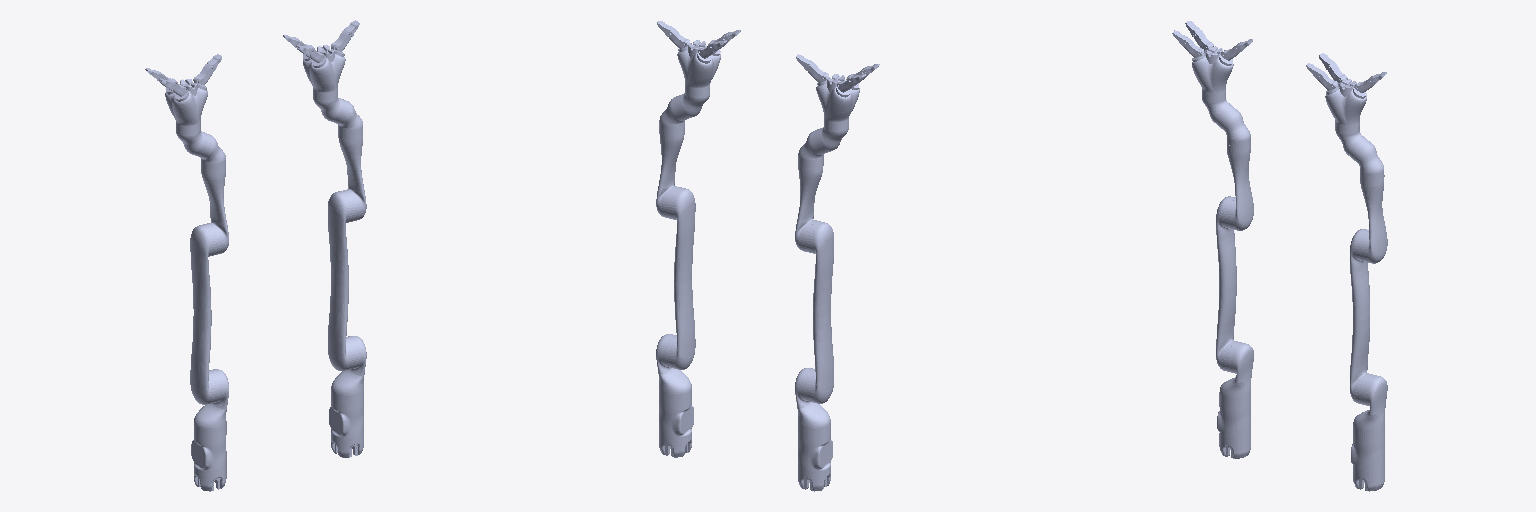
--- Facts derived from the render (not from the file) ---
Views: 3 orthographic renders of the robot side by side, from view 1: azimuth 30°, elevation 25°; view 2: azimuth 150°, elevation 25°; view 3: azimuth 330°, elevation 25°.
Robot: j2s6a300 — 31 links, 30 joints (10 revolute, 8 continuous, 12 fixed); root link root; default pose: joints at zero except 4 at the middle of their limits (left_joint_2 = 3.14, left_joint_3 = 3.14, right_joint_2 = 3.14, right_joint_3 = 3.14).
Visible links, largest first — view 1: left_link_2, right_link_2, right_link_base, left_link_base, right_link_6, left_link_6, right_link_1, left_link_3, left_link_1, right_link_3, left_link_5, right_link_5 (+2 smaller); view 2: right_link_2, left_link_2, right_link_base, left_link_base, right_link_6, left_link_6, left_link_3, right_link_3, right_link_1, left_link_1, left_link_5, right_link_5 (+2 smaller); view 3: left_link_2, right_link_2, right_link_base, left_link_base, left_link_3, right_link_3, right_link_1, left_link_1, right_link_6, left_link_6, right_link_4, left_link_4 (+2 smaller).
Link boxes in pixels (x1,y1,x2,y2): left_link_2: (190,224,217,404); right_link_2: (328,190,354,370); right_link_base: (329,397,363,457); left_link_base: (191,430,226,491); right_link_6: (303,45,345,95); left_link_6: (165,78,207,129); right_link_1: (331,336,366,402); left_link_3: (201,166,228,254); left_link_1: (194,369,228,436); right_link_3: (338,131,366,221); left_link_5: (176,125,208,155); right_link_5: (313,92,345,122); right_link_2: (668,187,695,369); left_link_2: (807,221,833,403); right_link_base: (659,397,693,457); left_link_base: (798,430,832,491); right_link_6: (677,39,720,91); left_link_6: (816,73,859,125); left_link_3: (795,161,823,252); right_link_3: (656,127,684,218); right_link_1: (656,334,691,401); left_link_1: (795,368,830,435); left_link_5: (815,122,848,152); right_link_5: (677,88,709,118); left_link_2: (1216,196,1237,371); right_link_2: (1350,229,1369,404); right_link_base: (1351,433,1384,491); left_link_base: (1217,399,1250,458); left_link_3: (1227,143,1253,230); right_link_3: (1360,175,1387,263); right_link_1: (1353,374,1387,437); left_link_1: (1219,342,1253,404); right_link_6: (1325,76,1366,128); left_link_6: (1192,43,1233,95); right_link_4: (1352,140,1383,179); left_link_4: (1218,107,1250,146).
Size in the robot's own frame: 0.6084 by 0.0927 by 1.18 metres.
26 mesh visuals loaded from 10 distinct referenced files (8 Collada DAE); not drawn: 12 (reference not matched to a file when rendering).

The robot description file, URDF, robot "j2s6a300":
<?xml version="1.0" ?>
<!-- =================================================================================== -->
<!-- |    This document was autogenerated by xacro from two_arm_robot_example_standalone.xacro | -->
<!-- |    EDITING THIS FILE BY HAND IS NOT RECOMMENDED                                 | -->
<!-- =================================================================================== -->
<!-- j2s6_3 refers to jaco v2 6DOF spherical 3fingers -->
<robot name="j2s6a300" xmlns:body="http://playerstage.sourceforge.net/gazebo/xmlschema/#body" xmlns:controller="http://playerstage.sourceforge.net/gazebo/xmlschema/#controller" xmlns:gazebo="http://playerstage.sourceforge.net/gazebo/xmlschema/#gz" xmlns:geom="http://playerstage.sourceforge.net/gazebo/xmlschema/#geom" xmlns:interface="http://playerstage.sourceforge.net/gazebo/xmlschema/#interface" xmlns:joint="http://playerstage.sourceforge.net/gazebo/xmlschema/#joint" xmlns:model="http://playerstage.sourceforge.net/gazebo/xmlschema/#model" xmlns:physics="http://playerstage.sourceforge.net/gazebo/xmlschema/#physics" xmlns:renderable="http://playerstage.sourceforge.net/gazebo/xmlschema/#renderable" xmlns:rendering="http://playerstage.sourceforge.net/gazebo/xmlschema/#rendering" xmlns:sensor="http://playerstage.sourceforge.net/gazebo/xmlschema/#sensor" xmlns:xacro="http://ros.org/wiki/xacro" xmlns:xi="http://www.w3.org/2001/XInclude">
  <!-- links      		mesh_no
   base           		0
   shoulder       		1
   arm            		2
   forearm        		3
   wrist          		4
   arm_mico       		5
   arm_half1 (7dof)		6
   arm_half2 (7dof)		7
   wrist_spherical_1  8
   wrist_spherical_2  9

   hand 3 finger  		55
   hand_2finger   		56
   finger_proximal		57
   finger_distal      58 
-->
  <!-- links      		mesh_no
   base           		0
   shoulder       		1
   arm            		2
   forearm        		3
   wrist          		4
   arm_mico       		5
   arm_half1 (7dof)		6
   arm_half2 (7dof)		7
   wrist_spherical_1  8
   wrist_spherical_2  9

   hand 3 finger  		55
   hand_2finger   		56
   finger_proximal		57
   finger_distal      58 
-->
  <link name="root">
    <visual>
      <origin rpy="0 0 0" xyz="0 0 0"/>
      <geometry>
        <box size="0 0 0"/>
      </geometry>
    </visual>
    <collision>
      <origin rpy="0 0 0" xyz="0 0 0"/>
      <geometry>
        <box size="0 0 0"/>
      </geometry>
    </collision>
  </link>
  <link name="left_arm_mount">
  </link>
  <link name="right_arm_mount">
  </link>
  <joint name="left_arm_attach" type="fixed">
    <child link="left_arm_mount"/>
    <parent link="root"/>
    <origin rpy="0 0 1.5707" xyz="-0.2 0 0"/>
  </joint>
  <joint name="right_arm_attach" type="fixed">
    <child link="right_arm_mount"/>
    <parent link="root"/>
    <origin rpy="0 0 1.5707" xyz="0.2 0 0"/>
  </joint>
  <!-- ros_control plugin -->
  <gazebo>
    <plugin filename="libgazebo_ros_control.so" name="gazebo_ros_control">
      <robotNamespace>left</robotNamespace>
      <robotSimType>gazebo_ros_control/DefaultRobotHWSim</robotSimType>
    </plugin>
  </gazebo>
  <link name="left_link_base">
    <visual>
      <geometry>
        <mesh filename="package://kinova_description/meshes/base.dae"/>
      </geometry>
      <material name="carbon_fiber">
        <color rgba="0.792156862745098 0.819607843137255 0.933333333333333 1"/>
      </material>
    </visual>
    <collision>
      <geometry>
        <mesh filename="package://kinova_description/meshes/base.dae"/>
      </geometry>
    </collision>
    <inertial>
      <mass value="0.46784"/>
      <origin rpy="0 0 0" xyz="0 0 0.1255"/>
      <inertia ixx="0.000951270861568" ixy="0" ixz="0" iyy="0.000951270861568" iyz="0" izz="0.000374272"/>
    </inertial>
  </link>
  <joint name="left_joint_base" type="fixed">
    <parent link="left_arm_mount"/>
    <child link="left_link_base"/>
    <axis xyz="0 0 0"/>
    <limit effort="2000" lower="0" upper="0" velocity="1"/>
    <origin rpy="0 0 0" xyz="0 0 0"/>
    <dynamics damping="0.0" friction="0.0"/>
  </joint>
  <link name="left_link_1">
    <visual>
      <geometry>
        <mesh filename="package://kinova_description/meshes/shoulder.dae"/>
      </geometry>
      <material name="carbon_fiber">
        <color rgba="0.792156862745098 0.819607843137255 0.933333333333333 1"/>
      </material>
    </visual>
    <visual>
      <geometry>
        <mesh filename="package://kinova_description/meshes/ring_big.STL"/>
      </geometry>
    </visual>
    <collision>
      <geometry>
        <mesh filename="package://kinova_description/meshes/shoulder.dae"/>
      </geometry>
    </collision>
    <inertial>
      <mass value="0.7477"/>
      <origin xyz="0 -0.002 -0.0605"/>
      <inertia ixx="0.00152031725204" ixy="0" ixz="0" iyy="0.00152031725204" iyz="0" izz="0.00059816"/>
    </inertial>
  </link>
  <joint name="left_joint_1" type="continuous">
    <parent link="left_link_base"/>
    <child link="left_link_1"/>
    <axis xyz="0 0 1"/>
    <limit effort="2000" lower="-6.28318530718" upper="6.28318530718" velocity="1"/>
    <origin rpy="0 3.14159265359 0" xyz="0 0 0.15675"/>
    <dynamics damping="0.0" friction="0.0"/>
  </joint>
  <transmission name="left_joint_1_trans">
    <type>transmission_interface/SimpleTransmission</type>
    <joint name="left_joint_1">
      <hardwareInterface>EffortJointInterface</hardwareInterface>
    </joint>
    <actuator name="left_joint_1_actuator">
      <hardwareInterface>EffortJointInterface</hardwareInterface>
      <mechanicalReduction>160</mechanicalReduction>
    </actuator>
  </transmission>
  <link name="left_link_2">
    <visual>
      <geometry>
        <mesh filename="package://kinova_description/meshes/arm.dae"/>
      </geometry>
      <material name="carbon_fiber">
        <color rgba="0.792156862745098 0.819607843137255 0.933333333333333 1"/>
      </material>
    </visual>
    <visual>
      <geometry>
        <mesh filename="package://kinova_description/meshes/ring_big.STL"/>
      </geometry>
    </visual>
    <collision>
      <geometry>
        <mesh filename="package://kinova_description/meshes/arm.dae"/>
      </geometry>
    </collision>
    <inertial>
      <mass value="0.99"/>
      <origin xyz="0 -0.2065 -0.01"/>
      <inertia ixx="0.010502207991" ixy="0" ixz="0" iyy="0.000792" iyz="0" izz="0.010502207991"/>
    </inertial>
  </link>
  <joint name="left_joint_2" type="revolute">
    <parent link="left_link_1"/>
    <child link="left_link_2"/>
    <axis xyz="0 0 1"/>
    <limit effort="2000" lower="0.820304748437" upper="5.46288055874" velocity="1"/>
    <origin rpy="-1.57079632679 0 3.14159265359" xyz="0 0.0016 -0.11875"/>
    <dynamics damping="0.0" friction="0.0"/>
  </joint>
  <transmission name="left_joint_2_trans">
    <type>transmission_interface/SimpleTransmission</type>
    <joint name="left_joint_2">
      <hardwareInterface>EffortJointInterface</hardwareInterface>
    </joint>
    <actuator name="left_joint_2_actuator">
      <hardwareInterface>EffortJointInterface</hardwareInterface>
      <mechanicalReduction>160</mechanicalReduction>
    </actuator>
  </transmission>
  <link name="left_link_3">
    <visual>
      <geometry>
        <mesh filename="package://kinova_description/meshes/forearm.dae"/>
      </geometry>
      <material name="carbon_fiber">
        <color rgba="0.792156862745098 0.819607843137255 0.933333333333333 1"/>
      </material>
    </visual>
    <visual>
      <geometry>
        <mesh filename="package://kinova_description/meshes/ring_big.STL"/>
      </geometry>
    </visual>
    <collision>
      <geometry>
        <mesh filename="package://kinova_description/meshes/forearm.dae"/>
      </geometry>
    </collision>
    <inertial>
      <mass value="0.6763"/>
      <origin xyz="0 0.081 -0.0086"/>
      <inertia ixx="0.00142022431908" ixy="0" ixz="0" iyy="0.000304335" iyz="0" izz="0.00142022431908"/>
    </inertial>
  </link>
  <joint name="left_joint_3" type="revolute">
    <parent link="left_link_2"/>
    <child link="left_link_3"/>
    <axis xyz="0 0 1"/>
    <limit effort="2000" lower="0.331612557879" upper="5.9515727493" velocity="1"/>
    <origin rpy="0 3.14159265359 0" xyz="0 -0.410 0"/>
    <dynamics damping="0.0" friction="0.0"/>
  </joint>
  <transmission name="left_joint_3_trans">
    <type>transmission_interface/SimpleTransmission</type>
    <joint name="left_joint_3">
      <hardwareInterface>EffortJointInterface</hardwareInterface>
    </joint>
    <actuator name="left_joint_3_actuator">
      <hardwareInterface>EffortJointInterface</hardwareInterface>
      <mechanicalReduction>160</mechanicalReduction>
    </actuator>
  </transmission>
  <link name="left_link_4">
    <visual>
      <geometry>
        <mesh filename="package://kinova_description/meshes/wrist.dae"/>
      </geometry>
      <material name="carbon_fiber">
        <color rgba="0.792156862745098 0.819607843137255 0.933333333333333 1"/>
      </material>
    </visual>
    <visual>
      <geometry>
        <mesh filename="package://kinova_description/meshes/ring_small.STL"/>
      </geometry>
    </visual>
    <collision>
      <geometry>
        <mesh filename="package://kinova_description/meshes/wrist.dae"/>
      </geometry>
    </collision>
    <inertial>
      <mass value="0.426367"/>
      <origin xyz="0 -0.037 -0.0642"/>
      <inertia ixx="7.73496906e-05" ixy="0" ixz="0" iyy="7.73496906e-05" iyz="0" izz="0.0001428"/>
    </inertial>
  </link>
  <joint name="left_joint_4" type="continuous">
    <parent link="left_link_3"/>
    <child link="left_link_4"/>
    <axis xyz="0 0 1"/>
    <limit effort="2000" lower="-6.28318530718" upper="6.28318530718" velocity="1"/>
    <origin rpy="-1.57079632679 0 3.14159265359" xyz="0 0.2073 -0.0114"/>
    <dynamics damping="0.0" friction="0.0"/>
  </joint>
  <transmission name="left_joint_4_trans">
    <type>transmission_interface/SimpleTransmission</type>
    <joint name="left_joint_4">
      <hardwareInterface>EffortJointInterface</hardwareInterface>
    </joint>
    <actuator name="left_joint_4_actuator">
      <hardwareInterface>EffortJointInterface</hardwareInterface>
      <mechanicalReduction>160</mechanicalReduction>
    </actuator>
  </transmission>
  <link name="left_link_5">
    <visual>
      <geometry>
        <mesh filename="package://kinova_description/meshes/wrist.dae"/>
      </geometry>
      <material name="carbon_fiber">
        <color rgba="0.792156862745098 0.819607843137255 0.933333333333333 1"/>
      </material>
    </visual>
    <visual>
      <geometry>
        <mesh filename="package://kinova_description/meshes/ring_small.STL"/>
      </geometry>
    </visual>
    <collision>
      <geometry>
        <mesh filename="package://kinova_description/meshes/wrist.dae"/>
      </geometry>
    </collision>
    <inertial>
      <mass value="0.426367"/>
      <origin xyz="0 -0.037 -0.0642"/>
      <inertia ixx="7.73496906e-05" ixy="0" ixz="0" iyy="7.73496906e-05" iyz="0" izz="0.0001428"/>
    </inertial>
  </link>
  <joint name="left_joint_5" type="continuous">
    <parent link="left_link_4"/>
    <child link="left_link_5"/>
    <axis xyz="0 0 1"/>
    <limit effort="2000" lower="-6.28318530718" upper="6.28318530718" velocity="1"/>
    <origin rpy="1.0471975512 0 3.14159265359" xyz="0 -0.03703 -0.06414"/>
    <dynamics damping="0.0" friction="0.0"/>
  </joint>
  <transmission name="left_joint_5_trans">
    <type>transmission_interface/SimpleTransmission</type>
    <joint name="left_joint_5">
      <hardwareInterface>EffortJointInterface</hardwareInterface>
    </joint>
    <actuator name="left_joint_5_actuator">
      <hardwareInterface>EffortJointInterface</hardwareInterface>
      <mechanicalReduction>160</mechanicalReduction>
    </actuator>
  </transmission>
  <link name="left_link_6">
    <visual>
      <geometry>
        <mesh filename="package://kinova_description/meshes/hand_3finger.dae"/>
      </geometry>
      <material name="carbon_fiber">
        <color rgba="0.792156862745098 0.819607843137255 0.933333333333333 1"/>
      </material>
    </visual>
    <visual>
      <geometry>
        <mesh filename="package://kinova_description/meshes/ring_small.STL"/>
      </geometry>
    </visual>
    <collision>
      <geometry>
        <mesh filename="package://kinova_description/meshes/hand_3finger.dae"/>
      </geometry>
    </collision>
    <inertial>
      <mass value="0.99"/>
      <origin xyz="0 0 -0.06"/>
      <inertia ixx="0.0003453236187" ixy="0" ixz="0" iyy="0.0003453236187" iyz="0" izz="0.0005816"/>
    </inertial>
  </link>
  <joint name="left_joint_6" type="continuous">
    <parent link="left_link_5"/>
    <child link="left_link_6"/>
    <axis xyz="0 0 1"/>
    <limit effort="2000" lower="-6.28318530718" upper="6.28318530718" velocity="1"/>
    <origin rpy="1.0471975512 0 3.14159265359" xyz="0 -0.03703 -0.06414"/>
    <dynamics damping="0.0" friction="0.0"/>
  </joint>
  <transmission name="left_joint_6_trans">
    <type>transmission_interface/SimpleTransmission</type>
    <joint name="left_joint_6">
      <hardwareInterface>EffortJointInterface</hardwareInterface>
    </joint>
    <actuator name="left_joint_6_actuator">
      <hardwareInterface>EffortJointInterface</hardwareInterface>
      <mechanicalReduction>160</mechanicalReduction>
    </actuator>
  </transmission>
  <link name="left_end_effector">
    <visual>
      <geometry>
        <box size="0 0 0"/>
      </geometry>
    </visual>
    <collision>
      <geometry>
        <box size="0 0 0"/>
      </geometry>
    </collision>
  </link>
  <joint name="left_joint_end_effector" type="fixed">
    <parent link="left_link_6"/>
    <child link="left_end_effector"/>
    <axis xyz="0 0 0"/>
    <limit effort="2000" lower="0" upper="0" velocity="1"/>
    <origin rpy="3.14159265359 0 1.57079632679" xyz="0 0 -0.1600"/>
  </joint>
  <link name="left_link_finger_1">
    <visual>
      <geometry>
        <mesh filename="package://kinova_description/meshes/finger_proximal.dae"/>
      </geometry>
      <material name="carbon_fiber">
        <color rgba="0.792156862745098 0.819607843137255 0.933333333333333 1"/>
      </material>
    </visual>
    <collision>
      <geometry>
        <mesh filename="package://kinova_description/meshes/finger_proximal.dae"/>
      </geometry>
    </collision>
    <inertial>
      <mass value="0.01"/>
      <origin xyz="0.022 0 0"/>
      <inertia ixx="7.8999684e-07" ixy="0" ixz="0" iyy="7.8999684e-07" iyz="0" izz="8e-08"/>
    </inertial>
  </link>
  <joint name="left_joint_finger_1" type="revolute">
    <parent link="left_link_6"/>
    <child link="left_link_finger_1"/>
    <axis xyz="0 0 1"/>
    <origin rpy="-1.570796327 .649262481663582 1.35961148639407" xyz="0.00279 0.03126 -0.11467"/>
    <limit effort="2000" lower="0" upper="2" velocity="1"/>
  </joint>
  <transmission name="left_joint_finger_1_trans">
    <type>transmission_interface/SimpleTransmission</type>
    <joint name="left_joint_finger_1">
      <hardwareInterface>EffortJointInterface</hardwareInterface>
    </joint>
    <actuator name="left_joint_finger_1_actuator">
      <hardwareInterface>EffortJointInterface</hardwareInterface>
      <mechanicalReduction>1</mechanicalReduction>
    </actuator>
  </transmission>
  <link name="left_link_finger_tip_1">
    <visual>
      <geometry>
        <mesh filename="package://kinova_description/meshes/finger_distal.dae"/>
      </geometry>
      <material name="carbon_fiber">
        <color rgba="0.792156862745098 0.819607843137255 0.933333333333333 1"/>
      </material>
    </visual>
    <collision>
      <geometry>
        <mesh filename="package://kinova_description/meshes/finger_distal.dae"/>
      </geometry>
    </collision>
    <inertial>
      <mass value="0.01"/>
      <origin xyz="0.022 0 0"/>
      <inertia ixx="7.8999684e-07" ixy="0" ixz="0" iyy="7.8999684e-07" iyz="0" izz="8e-08"/>
    </inertial>
  </link>
  <joint name="left_joint_finger_tip_1" type="fixed">
    <parent link="left_link_finger_1"/>
    <child link="left_link_finger_tip_1"/>
    <axis xyz="0 0 1"/>
    <origin rpy="0 0 0" xyz="0.044 -0.003 0"/>
    <limit effort="2000" lower="0" upper="2" velocity="1"/>
  </joint>
  <link name="left_link_finger_2">
    <visual>
      <geometry>
        <mesh filename="package://kinova_description/meshes/finger_proximal.dae"/>
      </geometry>
      <material name="carbon_fiber">
        <color rgba="0.792156862745098 0.819607843137255 0.933333333333333 1"/>
      </material>
    </visual>
    <collision>
      <geometry>
        <mesh filename="package://kinova_description/meshes/finger_proximal.dae"/>
      </geometry>
    </collision>
    <inertial>
      <mass value="0.01"/>
      <origin xyz="0.022 0 0"/>
      <inertia ixx="7.8999684e-07" ixy="0" ixz="0" iyy="7.8999684e-07" iyz="0" izz="8e-08"/>
    </inertial>
  </link>
  <joint name="left_joint_finger_2" type="revolute">
    <parent link="left_link_6"/>
    <child link="left_link_finger_2"/>
    <axis xyz="0 0 1"/>
    <origin rpy="-1.570796327 .649262481663582 -1.38614049188413" xyz="0.02226 -0.02707 -0.11482"/>
    <limit effort="2000" lower="0" upper="2" velocity="1"/>
  </joint>
  <transmission name="left_joint_finger_2_trans">
    <type>transmission_interface/SimpleTransmission</type>
    <joint name="left_joint_finger_2">
      <hardwareInterface>EffortJointInterface</hardwareInterface>
    </joint>
    <actuator name="left_joint_finger_2_actuator">
      <hardwareInterface>EffortJointInterface</hardwareInterface>
      <mechanicalReduction>1</mechanicalReduction>
    </actuator>
  </transmission>
  <link name="left_link_finger_tip_2">
    <visual>
      <geometry>
        <mesh filename="package://kinova_description/meshes/finger_distal.dae"/>
      </geometry>
      <material name="carbon_fiber">
        <color rgba="0.792156862745098 0.819607843137255 0.933333333333333 1"/>
      </material>
    </visual>
    <collision>
      <geometry>
        <mesh filename="package://kinova_description/meshes/finger_distal.dae"/>
      </geometry>
    </collision>
    <inertial>
      <mass value="0.01"/>
      <origin xyz="0.022 0 0"/>
      <inertia ixx="7.8999684e-07" ixy="0" ixz="0" iyy="7.8999684e-07" iyz="0" izz="8e-08"/>
    </inertial>
  </link>
  <joint name="left_joint_finger_tip_2" type="fixed">
    <parent link="left_link_finger_2"/>
    <child link="left_link_finger_tip_2"/>
    <axis xyz="0 0 1"/>
    <origin rpy="0 0 0" xyz="0.044 -0.003 0"/>
    <limit effort="2000" lower="0" upper="2" velocity="1"/>
  </joint>
  <link name="left_link_finger_3">
    <visual>
      <geometry>
        <mesh filename="package://kinova_description/meshes/finger_proximal.dae"/>
      </geometry>
      <material name="carbon_fiber">
        <color rgba="0.792156862745098 0.819607843137255 0.933333333333333 1"/>
      </material>
    </visual>
    <collision>
      <geometry>
        <mesh filename="package://kinova_description/meshes/finger_proximal.dae"/>
      </geometry>
    </collision>
    <inertial>
      <mass value="0.01"/>
      <origin xyz="0.022 0 0"/>
      <inertia ixx="7.8999684e-07" ixy="0" ixz="0" iyy="7.8999684e-07" iyz="0" izz="8e-08"/>
    </inertial>
  </link>
  <joint name="left_joint_finger_3" type="revolute">
    <parent link="left_link_6"/>
    <child link="left_link_finger_3"/>
    <axis xyz="0 0 1"/>
    <origin rpy="-1.570796327 .649262481663582 -1.75545216211587" xyz="-0.02226 -0.02707 -0.11482"/>
    <limit effort="2000" lower="0" upper="2" velocity="1"/>
  </joint>
  <transmission name="left_joint_finger_3_trans">
    <type>transmission_interface/SimpleTransmission</type>
    <joint name="left_joint_finger_3">
      <hardwareInterface>EffortJointInterface</hardwareInterface>
    </joint>
    <actuator name="left_joint_finger_3_actuator">
      <hardwareInterface>EffortJointInterface</hardwareInterface>
      <mechanicalReduction>1</mechanicalReduction>
    </actuator>
  </transmission>
  <link name="left_link_finger_tip_3">
    <visual>
      <geometry>
        <mesh filename="package://kinova_description/meshes/finger_distal.dae"/>
      </geometry>
      <material name="carbon_fiber">
        <color rgba="0.792156862745098 0.819607843137255 0.933333333333333 1"/>
      </material>
    </visual>
    <collision>
      <geometry>
        <mesh filename="package://kinova_description/meshes/finger_distal.dae"/>
      </geometry>
    </collision>
    <inertial>
      <mass value="0.01"/>
      <origin xyz="0.022 0 0"/>
      <inertia ixx="7.8999684e-07" ixy="0" ixz="0" iyy="7.8999684e-07" iyz="0" izz="8e-08"/>
    </inertial>
  </link>
  <joint name="left_joint_finger_tip_3" type="fixed">
    <parent link="left_link_finger_3"/>
    <child link="left_link_finger_tip_3"/>
    <axis xyz="0 0 1"/>
    <origin rpy="0 0 0" xyz="0.044 -0.003 0"/>
    <limit effort="2000" lower="0" upper="2" velocity="1"/>
  </joint>
  <!-- ros_control plugin -->
  <gazebo>
    <plugin filename="libgazebo_ros_control.so" name="gazebo_ros_control">
      <robotNamespace>right</robotNamespace>
      <robotSimType>gazebo_ros_control/DefaultRobotHWSim</robotSimType>
    </plugin>
  </gazebo>
  <link name="right_link_base">
    <visual>
      <geometry>
        <mesh filename="package://kinova_description/meshes/base.dae"/>
      </geometry>
      <material name="carbon_fiber">
        <color rgba="0.792156862745098 0.819607843137255 0.933333333333333 1"/>
      </material>
    </visual>
    <collision>
      <geometry>
        <mesh filename="package://kinova_description/meshes/base.dae"/>
      </geometry>
    </collision>
    <inertial>
      <mass value="0.46784"/>
      <origin rpy="0 0 0" xyz="0 0 0.1255"/>
      <inertia ixx="0.000951270861568" ixy="0" ixz="0" iyy="0.000951270861568" iyz="0" izz="0.000374272"/>
    </inertial>
  </link>
  <joint name="right_joint_base" type="fixed">
    <parent link="right_arm_mount"/>
    <child link="right_link_base"/>
    <axis xyz="0 0 0"/>
    <limit effort="2000" lower="0" upper="0" velocity="1"/>
    <origin rpy="0 0 0" xyz="0 0 0"/>
    <dynamics damping="0.0" friction="0.0"/>
  </joint>
  <link name="right_link_1">
    <visual>
      <geometry>
        <mesh filename="package://kinova_description/meshes/shoulder.dae"/>
      </geometry>
      <material name="carbon_fiber">
        <color rgba="0.792156862745098 0.819607843137255 0.933333333333333 1"/>
      </material>
    </visual>
    <visual>
      <geometry>
        <mesh filename="package://kinova_description/meshes/ring_big.STL"/>
      </geometry>
    </visual>
    <collision>
      <geometry>
        <mesh filename="package://kinova_description/meshes/shoulder.dae"/>
      </geometry>
    </collision>
    <inertial>
      <mass value="0.7477"/>
      <origin xyz="0 -0.002 -0.0605"/>
      <inertia ixx="0.00152031725204" ixy="0" ixz="0" iyy="0.00152031725204" iyz="0" izz="0.00059816"/>
    </inertial>
  </link>
  <joint name="right_joint_1" type="continuous">
    <parent link="right_link_base"/>
    <child link="right_link_1"/>
    <axis xyz="0 0 1"/>
    <limit effort="2000" lower="-6.28318530718" upper="6.28318530718" velocity="1"/>
    <origin rpy="0 3.14159265359 0" xyz="0 0 0.15675"/>
    <dynamics damping="0.0" friction="0.0"/>
  </joint>
  <transmission name="right_joint_1_trans">
    <type>transmission_interface/SimpleTransmission</type>
    <joint name="right_joint_1">
      <hardwareInterface>EffortJointInterface</hardwareInterface>
    </joint>
    <actuator name="right_joint_1_actuator">
      <hardwareInterface>EffortJointInterface</hardwareInterface>
      <mechanicalReduction>160</mechanicalReduction>
    </actuator>
  </transmission>
  <link name="right_link_2">
    <visual>
      <geometry>
        <mesh filename="package://kinova_description/meshes/arm.dae"/>
      </geometry>
      <material name="carbon_fiber">
        <color rgba="0.792156862745098 0.819607843137255 0.933333333333333 1"/>
      </material>
    </visual>
    <visual>
      <geometry>
        <mesh filename="package://kinova_description/meshes/ring_big.STL"/>
      </geometry>
    </visual>
    <collision>
      <geometry>
        <mesh filename="package://kinova_description/meshes/arm.dae"/>
      </geometry>
    </collision>
    <inertial>
      <mass value="0.99"/>
      <origin xyz="0 -0.2065 -0.01"/>
      <inertia ixx="0.010502207991" ixy="0" ixz="0" iyy="0.000792" iyz="0" izz="0.010502207991"/>
    </inertial>
  </link>
  <joint name="right_joint_2" type="revolute">
    <parent link="right_link_1"/>
    <child link="right_link_2"/>
    <axis xyz="0 0 1"/>
    <limit effort="2000" lower="0.820304748437" upper="5.46288055874" velocity="1"/>
    <origin rpy="-1.57079632679 0 3.14159265359" xyz="0 0.0016 -0.11875"/>
    <dynamics damping="0.0" friction="0.0"/>
  </joint>
  <transmission name="right_joint_2_trans">
    <type>transmission_interface/SimpleTransmission</type>
    <joint name="right_joint_2">
      <hardwareInterface>EffortJointInterface</hardwareInterface>
    </joint>
    <actuator name="right_joint_2_actuator">
      <hardwareInterface>EffortJointInterface</hardwareInterface>
      <mechanicalReduction>160</mechanicalReduction>
    </actuator>
  </transmission>
  <link name="right_link_3">
    <visual>
      <geometry>
        <mesh filename="package://kinova_description/meshes/forearm.dae"/>
      </geometry>
      <material name="carbon_fiber">
        <color rgba="0.792156862745098 0.819607843137255 0.933333333333333 1"/>
      </material>
    </visual>
    <visual>
      <geometry>
        <mesh filename="package://kinova_description/meshes/ring_big.STL"/>
      </geometry>
    </visual>
    <collision>
      <geometry>
        <mesh filename="package://kinova_description/meshes/forearm.dae"/>
      </geometry>
    </collision>
    <inertial>
      <mass value="0.6763"/>
      <origin xyz="0 0.081 -0.0086"/>
      <inertia ixx="0.00142022431908" ixy="0" ixz="0" iyy="0.000304335" iyz="0" izz="0.00142022431908"/>
    </inertial>
  </link>
  <joint name="right_joint_3" type="revolute">
    <parent link="right_link_2"/>
    <child link="right_link_3"/>
    <axis xyz="0 0 1"/>
    <limit effort="2000" lower="0.331612557879" upper="5.9515727493" velocity="1"/>
    <origin rpy="0 3.14159265359 0" xyz="0 -0.410 0"/>
    <dynamics damping="0.0" friction="0.0"/>
  </joint>
  <transmission name="right_joint_3_trans">
    <type>transmission_interface/SimpleTransmission</type>
    <joint name="right_joint_3">
      <hardwareInterface>EffortJointInterface</hardwareInterface>
    </joint>
    <actuator name="right_joint_3_actuator">
      <hardwareInterface>EffortJointInterface</hardwareInterface>
      <mechanicalReduction>160</mechanicalReduction>
    </actuator>
  </transmission>
  <link name="right_link_4">
    <visual>
      <geometry>
        <mesh filename="package://kinova_description/meshes/wrist.dae"/>
      </geometry>
      <material name="carbon_fiber">
        <color rgba="0.792156862745098 0.819607843137255 0.933333333333333 1"/>
      </material>
    </visual>
    <visual>
      <geometry>
        <mesh filename="package://kinova_description/meshes/ring_small.STL"/>
      </geometry>
    </visual>
    <collision>
      <geometry>
        <mesh filename="package://kinova_description/meshes/wrist.dae"/>
      </geometry>
    </collision>
    <inertial>
      <mass value="0.426367"/>
      <origin xyz="0 -0.037 -0.0642"/>
      <inertia ixx="7.73496906e-05" ixy="0" ixz="0" iyy="7.73496906e-05" iyz="0" izz="0.0001428"/>
    </inertial>
  </link>
  <joint name="right_joint_4" type="continuous">
    <parent link="right_link_3"/>
    <child link="right_link_4"/>
    <axis xyz="0 0 1"/>
    <limit effort="2000" lower="-6.28318530718" upper="6.28318530718" velocity="1"/>
    <origin rpy="-1.57079632679 0 3.14159265359" xyz="0 0.2073 -0.0114"/>
    <dynamics damping="0.0" friction="0.0"/>
  </joint>
  <transmission name="right_joint_4_trans">
    <type>transmission_interface/SimpleTransmission</type>
    <joint name="right_joint_4">
      <hardwareInterface>EffortJointInterface</hardwareInterface>
    </joint>
    <actuator name="right_joint_4_actuator">
      <hardwareInterface>EffortJointInterface</hardwareInterface>
      <mechanicalReduction>160</mechanicalReduction>
    </actuator>
  </transmission>
  <link name="right_link_5">
    <visual>
      <geometry>
        <mesh filename="package://kinova_description/meshes/wrist.dae"/>
      </geometry>
      <material name="carbon_fiber">
        <color rgba="0.792156862745098 0.819607843137255 0.933333333333333 1"/>
      </material>
    </visual>
    <visual>
      <geometry>
        <mesh filename="package://kinova_description/meshes/ring_small.STL"/>
      </geometry>
    </visual>
    <collision>
      <geometry>
        <mesh filename="package://kinova_description/meshes/wrist.dae"/>
      </geometry>
    </collision>
    <inertial>
      <mass value="0.426367"/>
      <origin xyz="0 -0.037 -0.0642"/>
      <inertia ixx="7.73496906e-05" ixy="0" ixz="0" iyy="7.73496906e-05" iyz="0" izz="0.0001428"/>
    </inertial>
  </link>
  <joint name="right_joint_5" type="continuous">
    <parent link="right_link_4"/>
    <child link="right_link_5"/>
    <axis xyz="0 0 1"/>
    <limit effort="2000" lower="-6.28318530718" upper="6.28318530718" velocity="1"/>
    <origin rpy="1.0471975512 0 3.14159265359" xyz="0 -0.03703 -0.06414"/>
    <dynamics damping="0.0" friction="0.0"/>
  </joint>
  <transmission name="right_joint_5_trans">
    <type>transmission_interface/SimpleTransmission</type>
    <joint name="right_joint_5">
      <hardwareInterface>EffortJointInterface</hardwareInterface>
    </joint>
    <actuator name="right_joint_5_actuator">
      <hardwareInterface>EffortJointInterface</hardwareInterface>
      <mechanicalReduction>160</mechanicalReduction>
    </actuator>
  </transmission>
  <link name="right_link_6">
    <visual>
      <geometry>
        <mesh filename="package://kinova_description/meshes/hand_3finger.dae"/>
      </geometry>
      <material name="carbon_fiber">
        <color rgba="0.792156862745098 0.819607843137255 0.933333333333333 1"/>
      </material>
    </visual>
    <visual>
      <geometry>
        <mesh filename="package://kinova_description/meshes/ring_small.STL"/>
      </geometry>
    </visual>
    <collision>
      <geometry>
        <mesh filename="package://kinova_description/meshes/hand_3finger.dae"/>
      </geometry>
    </collision>
    <inertial>
      <mass value="0.99"/>
      <origin xyz="0 0 -0.06"/>
      <inertia ixx="0.0003453236187" ixy="0" ixz="0" iyy="0.0003453236187" iyz="0" izz="0.0005816"/>
    </inertial>
  </link>
  <joint name="right_joint_6" type="continuous">
    <parent link="right_link_5"/>
    <child link="right_link_6"/>
    <axis xyz="0 0 1"/>
    <limit effort="2000" lower="-6.28318530718" upper="6.28318530718" velocity="1"/>
    <origin rpy="1.0471975512 0 3.14159265359" xyz="0 -0.03703 -0.06414"/>
    <dynamics damping="0.0" friction="0.0"/>
  </joint>
  <transmission name="right_joint_6_trans">
    <type>transmission_interface/SimpleTransmission</type>
    <joint name="right_joint_6">
      <hardwareInterface>EffortJointInterface</hardwareInterface>
    </joint>
    <actuator name="right_joint_6_actuator">
      <hardwareInterface>EffortJointInterface</hardwareInterface>
      <mechanicalReduction>160</mechanicalReduction>
    </actuator>
  </transmission>
  <link name="right_end_effector">
    <visual>
      <geometry>
        <box size="0 0 0"/>
      </geometry>
    </visual>
    <collision>
      <geometry>
        <box size="0 0 0"/>
      </geometry>
    </collision>
  </link>
  <joint name="right_joint_end_effector" type="fixed">
    <parent link="right_link_6"/>
    <child link="right_end_effector"/>
    <axis xyz="0 0 0"/>
    <limit effort="2000" lower="0" upper="0" velocity="1"/>
    <origin rpy="3.14159265359 0 1.57079632679" xyz="0 0 -0.1600"/>
  </joint>
  <link name="right_link_finger_1">
    <visual>
      <geometry>
        <mesh filename="package://kinova_description/meshes/finger_proximal.dae"/>
      </geometry>
      <material name="carbon_fiber">
        <color rgba="0.792156862745098 0.819607843137255 0.933333333333333 1"/>
      </material>
    </visual>
    <collision>
      <geometry>
        <mesh filename="package://kinova_description/meshes/finger_proximal.dae"/>
      </geometry>
    </collision>
    <inertial>
      <mass value="0.01"/>
      <origin xyz="0.022 0 0"/>
      <inertia ixx="7.8999684e-07" ixy="0" ixz="0" iyy="7.8999684e-07" iyz="0" izz="8e-08"/>
    </inertial>
  </link>
  <joint name="right_joint_finger_1" type="revolute">
    <parent link="right_link_6"/>
    <child link="right_link_finger_1"/>
    <axis xyz="0 0 1"/>
    <origin rpy="-1.570796327 .649262481663582 1.35961148639407" xyz="0.00279 0.03126 -0.11467"/>
    <limit effort="2000" lower="0" upper="2" velocity="1"/>
  </joint>
  <transmission name="right_joint_finger_1_trans">
    <type>transmission_interface/SimpleTransmission</type>
    <joint name="right_joint_finger_1">
      <hardwareInterface>EffortJointInterface</hardwareInterface>
    </joint>
    <actuator name="right_joint_finger_1_actuator">
      <hardwareInterface>EffortJointInterface</hardwareInterface>
      <mechanicalReduction>1</mechanicalReduction>
    </actuator>
  </transmission>
  <link name="right_link_finger_tip_1">
    <visual>
      <geometry>
        <mesh filename="package://kinova_description/meshes/finger_distal.dae"/>
      </geometry>
      <material name="carbon_fiber">
        <color rgba="0.792156862745098 0.819607843137255 0.933333333333333 1"/>
      </material>
    </visual>
    <collision>
      <geometry>
        <mesh filename="package://kinova_description/meshes/finger_distal.dae"/>
      </geometry>
    </collision>
    <inertial>
      <mass value="0.01"/>
      <origin xyz="0.022 0 0"/>
      <inertia ixx="7.8999684e-07" ixy="0" ixz="0" iyy="7.8999684e-07" iyz="0" izz="8e-08"/>
    </inertial>
  </link>
  <joint name="right_joint_finger_tip_1" type="fixed">
    <parent link="right_link_finger_1"/>
    <child link="right_link_finger_tip_1"/>
    <axis xyz="0 0 1"/>
    <origin rpy="0 0 0" xyz="0.044 -0.003 0"/>
    <limit effort="2000" lower="0" upper="2" velocity="1"/>
  </joint>
  <link name="right_link_finger_2">
    <visual>
      <geometry>
        <mesh filename="package://kinova_description/meshes/finger_proximal.dae"/>
      </geometry>
      <material name="carbon_fiber">
        <color rgba="0.792156862745098 0.819607843137255 0.933333333333333 1"/>
      </material>
    </visual>
    <collision>
      <geometry>
        <mesh filename="package://kinova_description/meshes/finger_proximal.dae"/>
      </geometry>
    </collision>
    <inertial>
      <mass value="0.01"/>
      <origin xyz="0.022 0 0"/>
      <inertia ixx="7.8999684e-07" ixy="0" ixz="0" iyy="7.8999684e-07" iyz="0" izz="8e-08"/>
    </inertial>
  </link>
  <joint name="right_joint_finger_2" type="revolute">
    <parent link="right_link_6"/>
    <child link="right_link_finger_2"/>
    <axis xyz="0 0 1"/>
    <origin rpy="-1.570796327 .649262481663582 -1.38614049188413" xyz="0.02226 -0.02707 -0.11482"/>
    <limit effort="2000" lower="0" upper="2" velocity="1"/>
  </joint>
  <transmission name="right_joint_finger_2_trans">
    <type>transmission_interface/SimpleTransmission</type>
    <joint name="right_joint_finger_2">
      <hardwareInterface>EffortJointInterface</hardwareInterface>
    </joint>
    <actuator name="right_joint_finger_2_actuator">
      <hardwareInterface>EffortJointInterface</hardwareInterface>
      <mechanicalReduction>1</mechanicalReduction>
    </actuator>
  </transmission>
  <link name="right_link_finger_tip_2">
    <visual>
      <geometry>
        <mesh filename="package://kinova_description/meshes/finger_distal.dae"/>
      </geometry>
      <material name="carbon_fiber">
        <color rgba="0.792156862745098 0.819607843137255 0.933333333333333 1"/>
      </material>
    </visual>
    <collision>
      <geometry>
        <mesh filename="package://kinova_description/meshes/finger_distal.dae"/>
      </geometry>
    </collision>
    <inertial>
      <mass value="0.01"/>
      <origin xyz="0.022 0 0"/>
      <inertia ixx="7.8999684e-07" ixy="0" ixz="0" iyy="7.8999684e-07" iyz="0" izz="8e-08"/>
    </inertial>
  </link>
  <joint name="right_joint_finger_tip_2" type="fixed">
    <parent link="right_link_finger_2"/>
    <child link="right_link_finger_tip_2"/>
    <axis xyz="0 0 1"/>
    <origin rpy="0 0 0" xyz="0.044 -0.003 0"/>
    <limit effort="2000" lower="0" upper="2" velocity="1"/>
  </joint>
  <link name="right_link_finger_3">
    <visual>
      <geometry>
        <mesh filename="package://kinova_description/meshes/finger_proximal.dae"/>
      </geometry>
      <material name="carbon_fiber">
        <color rgba="0.792156862745098 0.819607843137255 0.933333333333333 1"/>
      </material>
    </visual>
    <collision>
      <geometry>
        <mesh filename="package://kinova_description/meshes/finger_proximal.dae"/>
      </geometry>
    </collision>
    <inertial>
      <mass value="0.01"/>
      <origin xyz="0.022 0 0"/>
      <inertia ixx="7.8999684e-07" ixy="0" ixz="0" iyy="7.8999684e-07" iyz="0" izz="8e-08"/>
    </inertial>
  </link>
  <joint name="right_joint_finger_3" type="revolute">
    <parent link="right_link_6"/>
    <child link="right_link_finger_3"/>
    <axis xyz="0 0 1"/>
    <origin rpy="-1.570796327 .649262481663582 -1.75545216211587" xyz="-0.02226 -0.02707 -0.11482"/>
    <limit effort="2000" lower="0" upper="2" velocity="1"/>
  </joint>
  <transmission name="right_joint_finger_3_trans">
    <type>transmission_interface/SimpleTransmission</type>
    <joint name="right_joint_finger_3">
      <hardwareInterface>EffortJointInterface</hardwareInterface>
    </joint>
    <actuator name="right_joint_finger_3_actuator">
      <hardwareInterface>EffortJointInterface</hardwareInterface>
      <mechanicalReduction>1</mechanicalReduction>
    </actuator>
  </transmission>
  <link name="right_link_finger_tip_3">
    <visual>
      <geometry>
        <mesh filename="package://kinova_description/meshes/finger_distal.dae"/>
      </geometry>
      <material name="carbon_fiber">
        <color rgba="0.792156862745098 0.819607843137255 0.933333333333333 1"/>
      </material>
    </visual>
    <collision>
      <geometry>
        <mesh filename="package://kinova_description/meshes/finger_distal.dae"/>
      </geometry>
    </collision>
    <inertial>
      <mass value="0.01"/>
      <origin xyz="0.022 0 0"/>
      <inertia ixx="7.8999684e-07" ixy="0" ixz="0" iyy="7.8999684e-07" iyz="0" izz="8e-08"/>
    </inertial>
  </link>
  <joint name="right_joint_finger_tip_3" type="fixed">
    <parent link="right_link_finger_3"/>
    <child link="right_link_finger_tip_3"/>
    <axis xyz="0 0 1"/>
    <origin rpy="0 0 0" xyz="0.044 -0.003 0"/>
    <limit effort="2000" lower="0" upper="2" velocity="1"/>
  </joint>
</robot>
